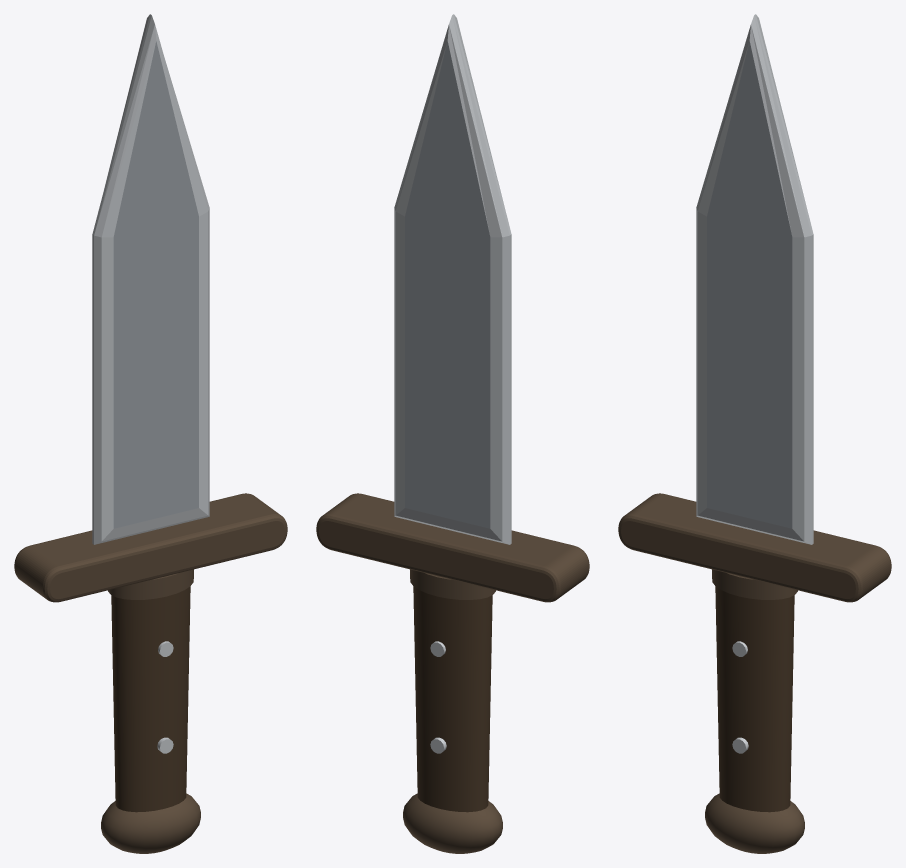
File: 08_Common_Scout_Dagger.glb
3 views of the same model, side by side, from view 1: azimuth 30°, elevation 25°; view 2: azimuth 150°, elevation 25°; view 3: azimuth 330°, elevation 25° (orthographic).
Visible parts, largest first — view 1: blade_1, handle_2, guard_0, pommel_4, ferrule_3; view 2: blade_1, handle_2, guard_0, pommel_4, ferrule_3; view 3: blade_1, handle_2, guard_0, pommel_4, ferrule_3.
Boxes of the visible parts, box(x1,y1,x2,y2) form: blade_1: box(92, 14, 209, 544); handle_2: box(111, 576, 190, 812); guard_0: box(14, 493, 287, 602); pommel_4: box(101, 793, 200, 853); ferrule_3: box(108, 569, 193, 599); blade_1: box(394, 14, 511, 544); handle_2: box(413, 576, 492, 812); guard_0: box(316, 493, 589, 602); pommel_4: box(403, 793, 502, 853); ferrule_3: box(410, 569, 495, 599); blade_1: box(696, 14, 813, 544); handle_2: box(715, 576, 794, 812); guard_0: box(618, 493, 891, 602); pommel_4: box(705, 793, 804, 853); ferrule_3: box(712, 569, 797, 599).
Size of the model in its own units: 0.1585 by 0.5177 by 0.043.
7 materials, 7 textured.
